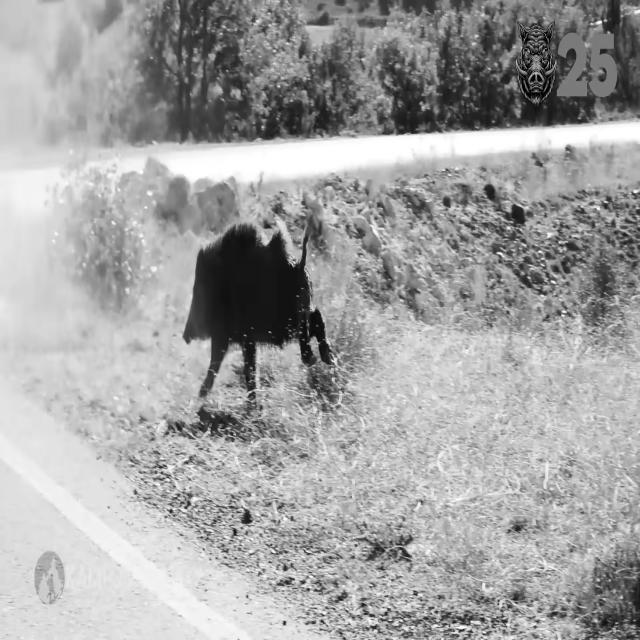boar: (183, 223, 336, 398)
